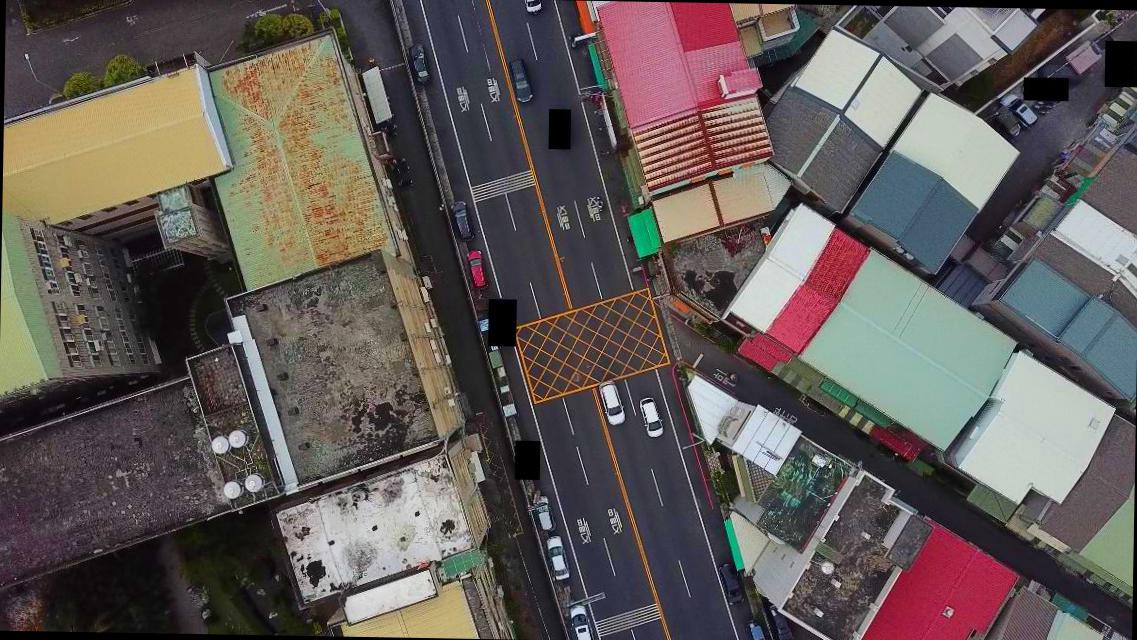vehicle: (717, 561, 747, 607), (766, 601, 801, 639), (1001, 94, 1040, 128), (596, 380, 625, 424), (506, 58, 534, 102), (544, 535, 571, 580), (567, 603, 598, 639), (406, 44, 432, 86), (639, 397, 665, 438), (450, 199, 475, 240), (988, 109, 1022, 139), (466, 248, 489, 290), (533, 496, 557, 532), (746, 617, 767, 639)
